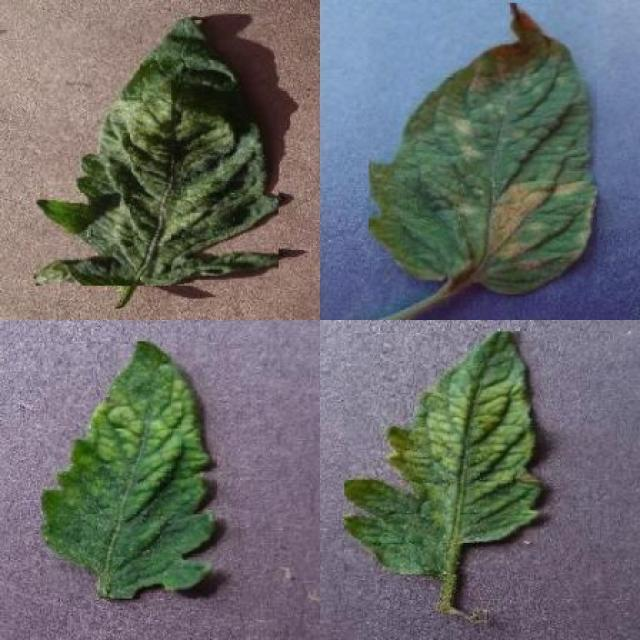Leaf Mold: (369, 4, 597, 295)
Mosaic Virus: (345, 332, 545, 574), (40, 342, 217, 599)
Spider Mites: (36, 14, 280, 286)
